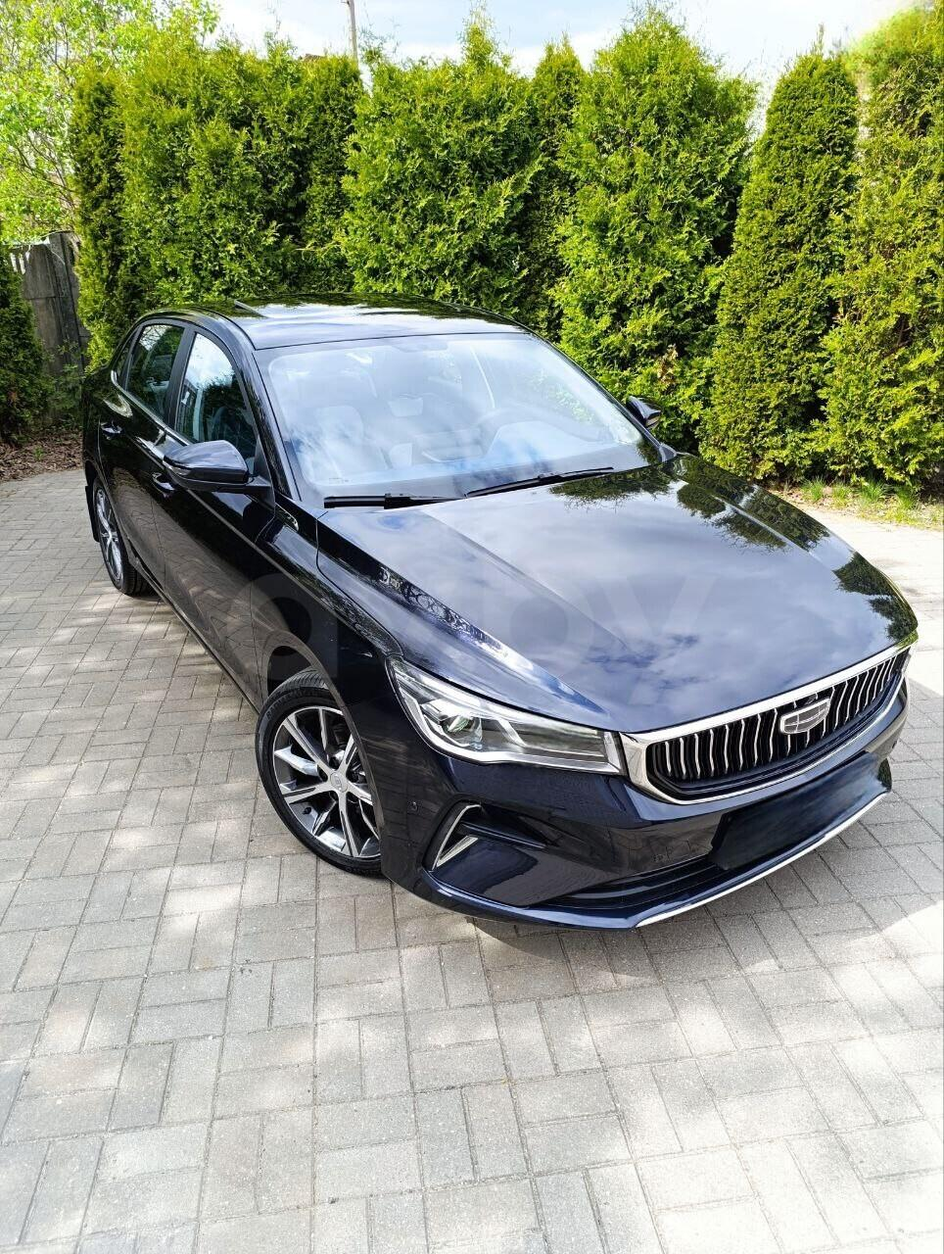Emgrand_2021: (89, 301, 908, 915)
